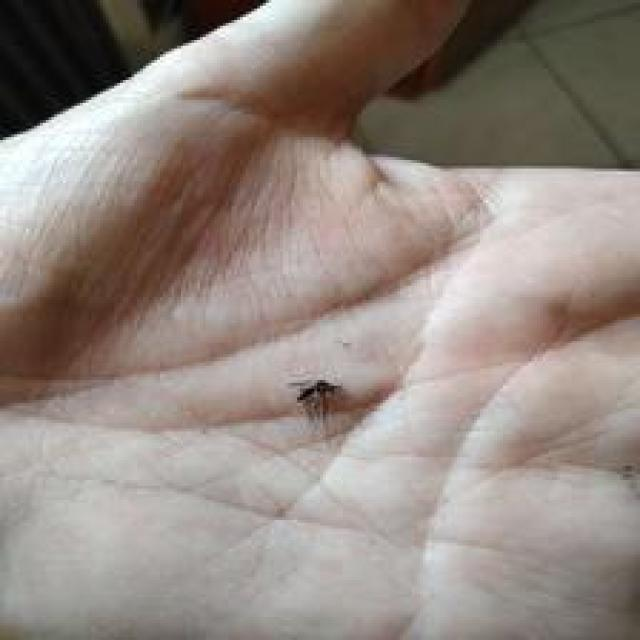Aedes albopictus: (288, 376, 343, 427)
